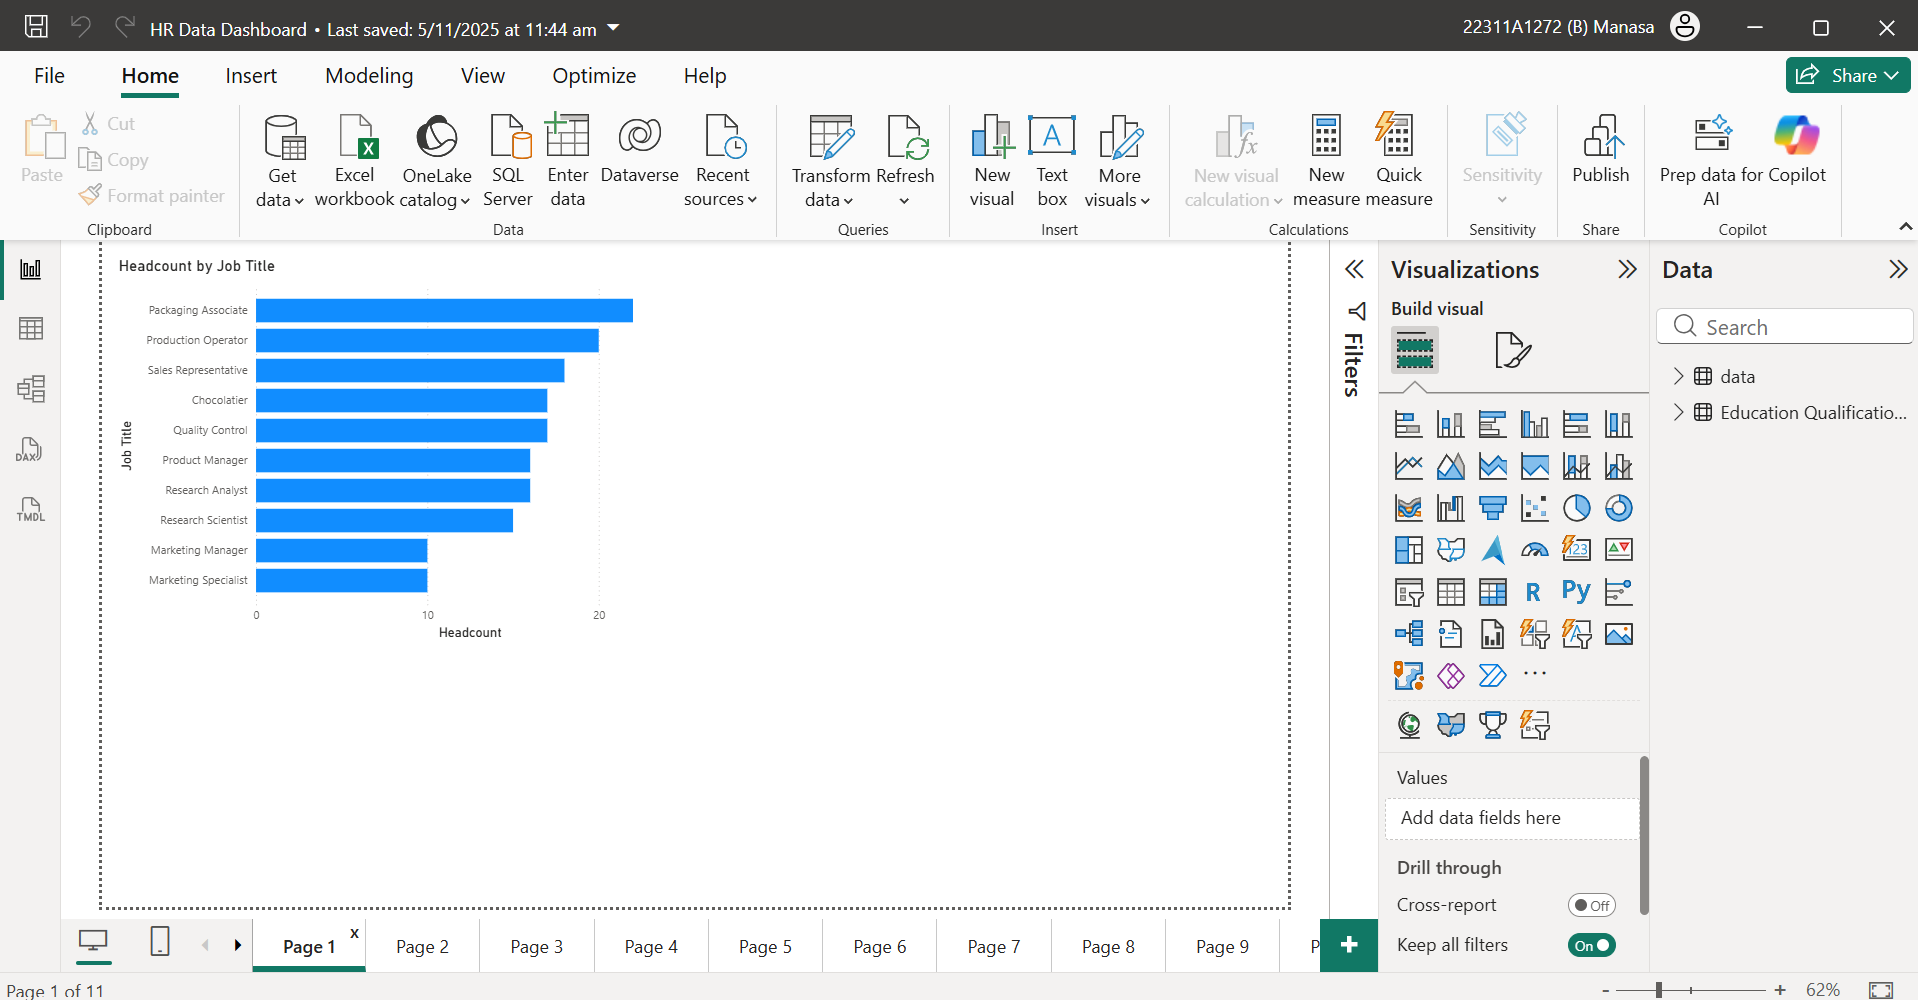

This screenshot's page, from the dashboard's own definition file:
{"tool":"powerbi","page":{"name":"Page 1","canvas":[1280,720],"ordinal":0},"visuals":[{"type":"barChart","fields":{"Category":["data.Job Title"],"Y":["data.Headcount"]},"box":[13.2,17,627.4,417.6],"z":0}]}

Visuals, with their boxes on the page's 1280x720 design canvas (x1, y1, x2, y2). These are canvas units, not pixel positions in the 1918x1000 screenshot, which may show the page scaled, cropped or inside an application window:
barChart - data.Job Title x data.Headcount: left=13, top=17, right=641, bottom=435
